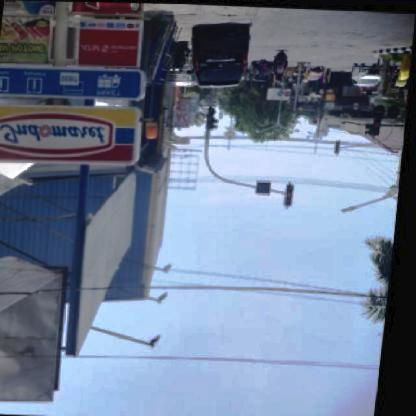Traffic Light -Yellow-: (208, 104, 218, 128), (374, 111, 384, 133), (287, 182, 297, 203)
